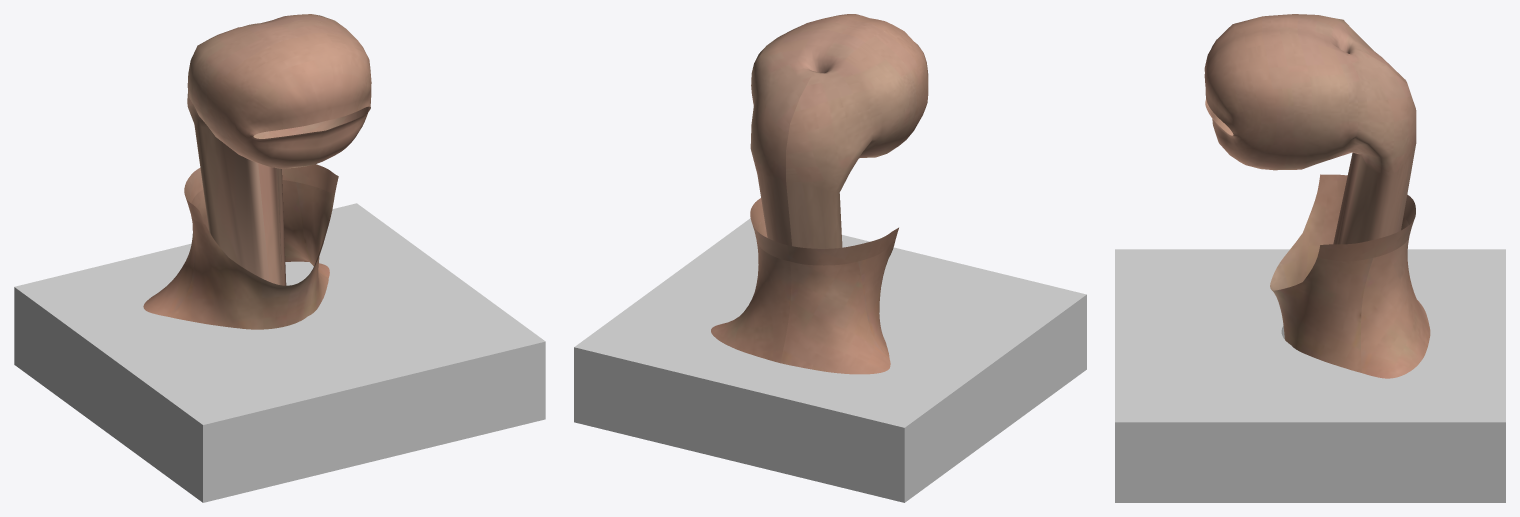
The model's file is hole_0.obj.
3 renders of one model, left to right at view 1: azimuth 30°, elevation 25°; view 2: azimuth 150°, elevation 25°; view 3: azimuth 270°, elevation 25°, orthographic. The views are drawn at different scales.
Parts seen in each view (by area): view 1: object_1, Genesis2Female, neck; view 2: object_1, Genesis2Female, neck; view 3: object_1, Genesis2Female, neck.
Boxes of the visible parts, x1=… form: object_1: x1=14, y1=203, x2=545, y2=502; Genesis2Female: x1=187, y1=14, x2=371, y2=285; neck: x1=143, y1=164, x2=338, y2=329; object_1: x1=574, y1=218, x2=1086, y2=502; Genesis2Female: x1=750, y1=14, x2=928, y2=248; neck: x1=711, y1=198, x2=898, y2=374; object_1: x1=1115, y1=249, x2=1505, y2=502; Genesis2Female: x1=1204, y1=14, x2=1416, y2=244; neck: x1=1270, y1=174, x2=1430, y2=378.
Bounding box in the file's own units: 0.1224 × 0.1278 × 0.1169.
